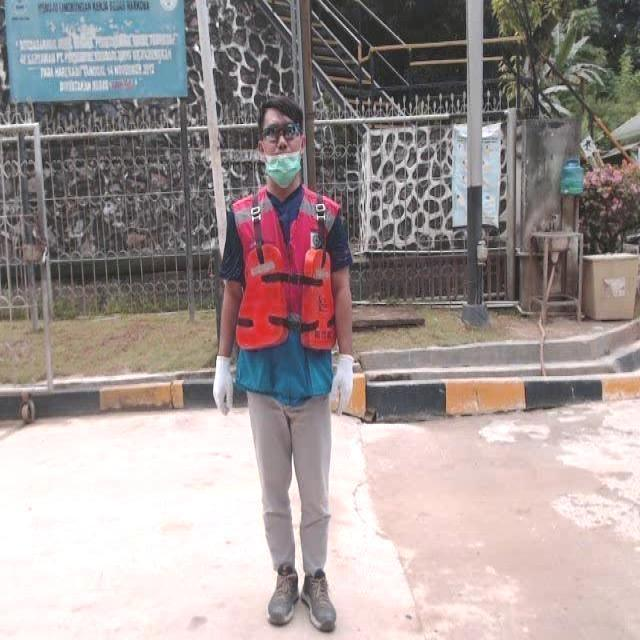vest: (229, 187, 340, 401)
